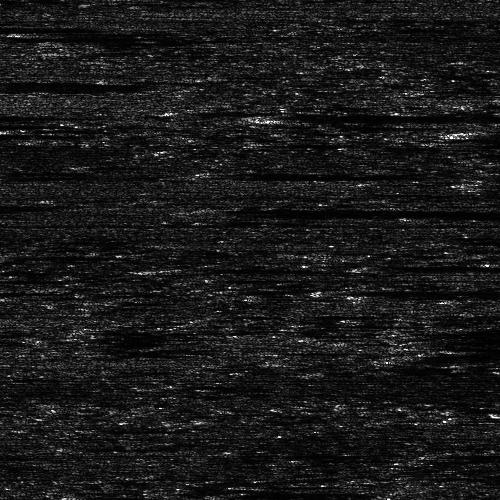rock: (339, 258, 402, 277), (166, 205, 271, 216), (377, 347, 440, 364), (237, 112, 320, 123), (139, 263, 212, 270), (0, 32, 32, 45), (432, 131, 500, 136), (182, 275, 245, 280), (420, 451, 483, 456), (0, 30, 61, 35), (420, 238, 473, 243), (0, 252, 23, 261), (0, 165, 11, 176), (198, 172, 229, 175), (312, 290, 343, 293), (0, 23, 12, 30), (491, 408, 500, 415)
shadow: (219, 205, 495, 216), (0, 32, 190, 45), (371, 258, 500, 277), (279, 112, 500, 123), (409, 347, 500, 364), (176, 263, 361, 270), (0, 252, 82, 261), (30, 30, 162, 35), (0, 165, 59, 176), (328, 290, 500, 293), (214, 275, 307, 280), (214, 172, 353, 175), (0, 131, 65, 136), (447, 238, 500, 243), (0, 23, 35, 30), (452, 451, 500, 456), (0, 114, 76, 117), (469, 131, 500, 136)
